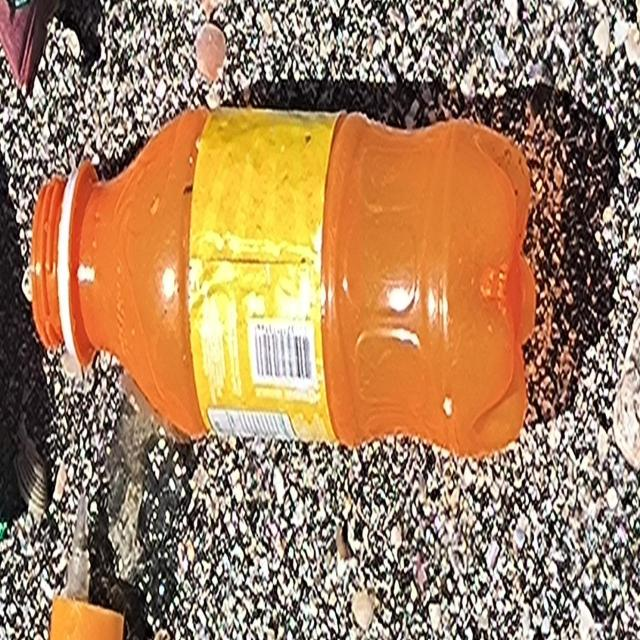plastic_waste: (30, 101, 540, 462)
